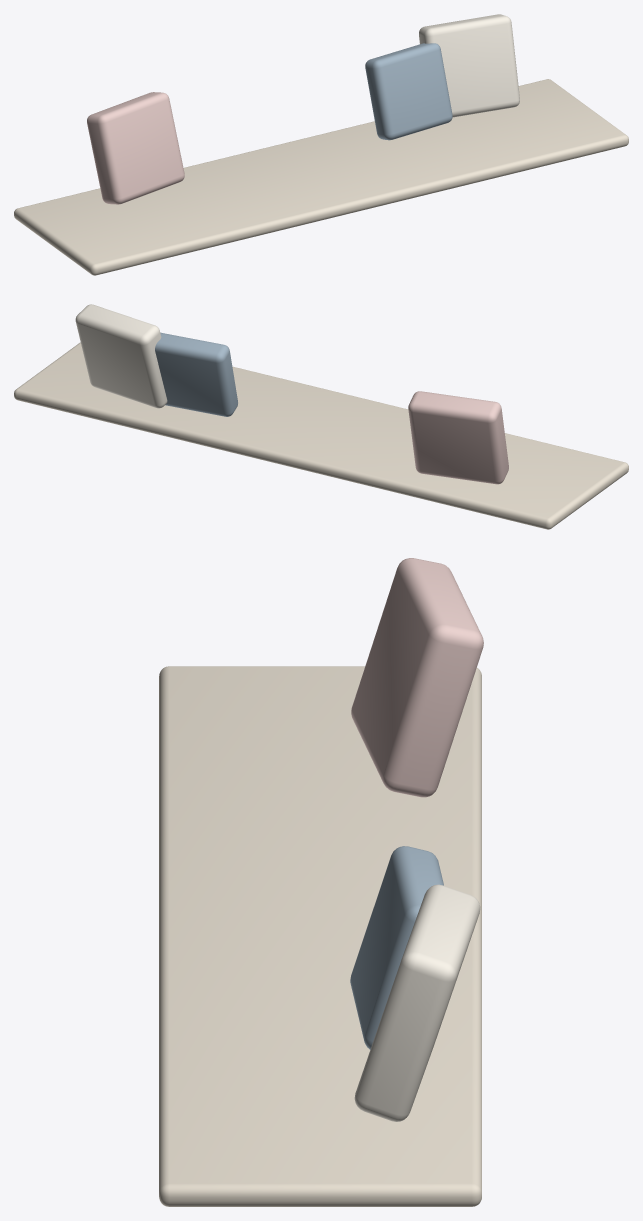
Rendered from bay_cushion.glb.
3 renders of one model, top to bottom at view 1: azimuth 30°, elevation 25°; view 2: azimuth 150°, elevation 25°; view 3: azimuth 270°, elevation 25°, orthographic. The views are drawn at different scales.
Visible parts, largest first — view 1: pad, c1, c2, c3; view 2: pad, c1, c2, c3; view 3: pad, c1, c2, c3.
Part boxes in pixels (<box>): pad: <box>14,79,628,275</box>; c1: <box>87,92,184,204</box>; c2: <box>419,14,519,117</box>; c3: <box>365,43,452,140</box>; pad: <box>14,342,628,529</box>; c1: <box>408,391,508,484</box>; c2: <box>75,304,167,408</box>; c3: <box>155,332,237,416</box>; pad: <box>159,666,481,1206</box>; c1: <box>351,558,483,797</box>; c2: <box>354,884,480,1121</box>; c3: <box>350,846,443,1049</box>.
Size of the model in its own units: 3 by 0.5269 by 0.7843.
